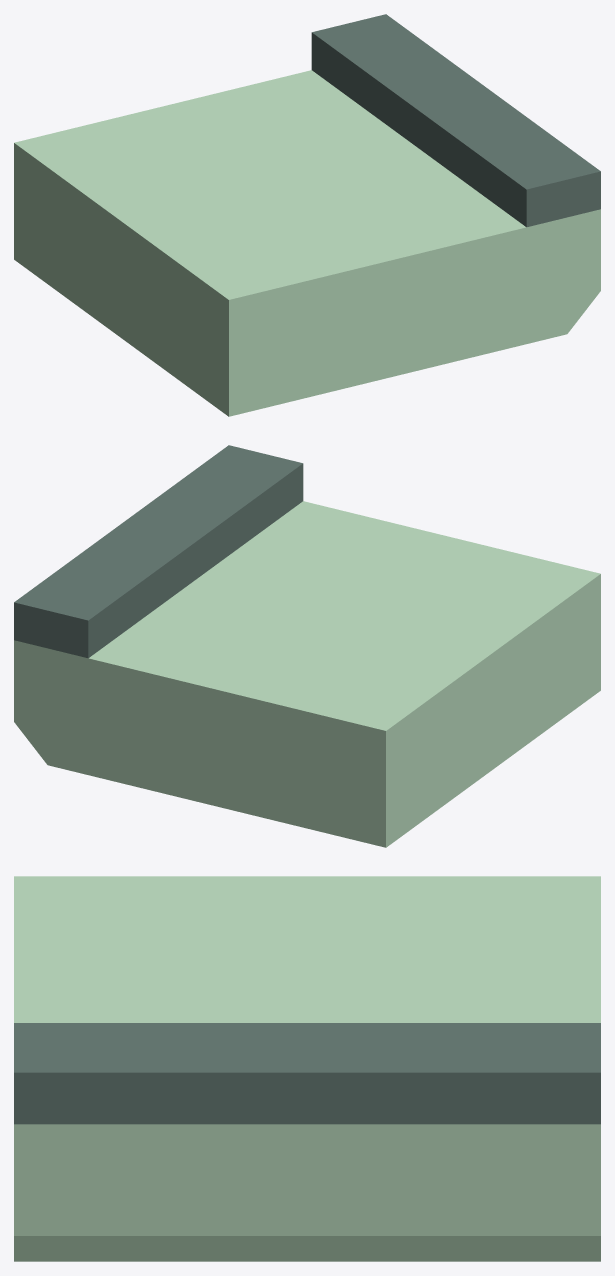
File: BridgeTop1mOneSide.fbx
The picture shows the model from 3 angles, top to bottom: view 1: azimuth 30°, elevation 25°; view 2: azimuth 150°, elevation 25°; view 3: azimuth 270°, elevation 25°; orthographic projection. The views are drawn at different scales.
Visible parts, largest first — view 1: BridgeTop1mOneSide; view 2: BridgeTop1mOneSide; view 3: BridgeTop1mOneSide.
Part boxes in pixels (left/top/right/bottom): BridgeTop1mOneSide: left=14, top=14, right=600, bottom=416; BridgeTop1mOneSide: left=14, top=445, right=600, bottom=847; BridgeTop1mOneSide: left=14, top=876, right=600, bottom=1261.
Bounding box in the file's own units: 1 × 0.3971 × 1.
